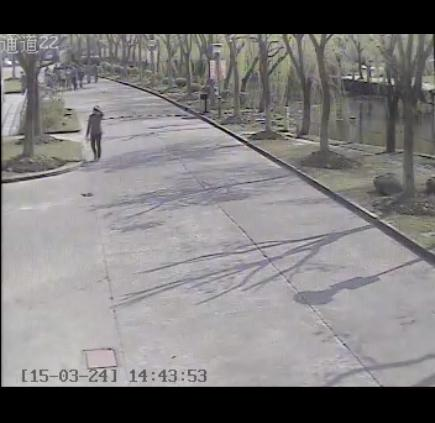person: (83, 101, 106, 163)
